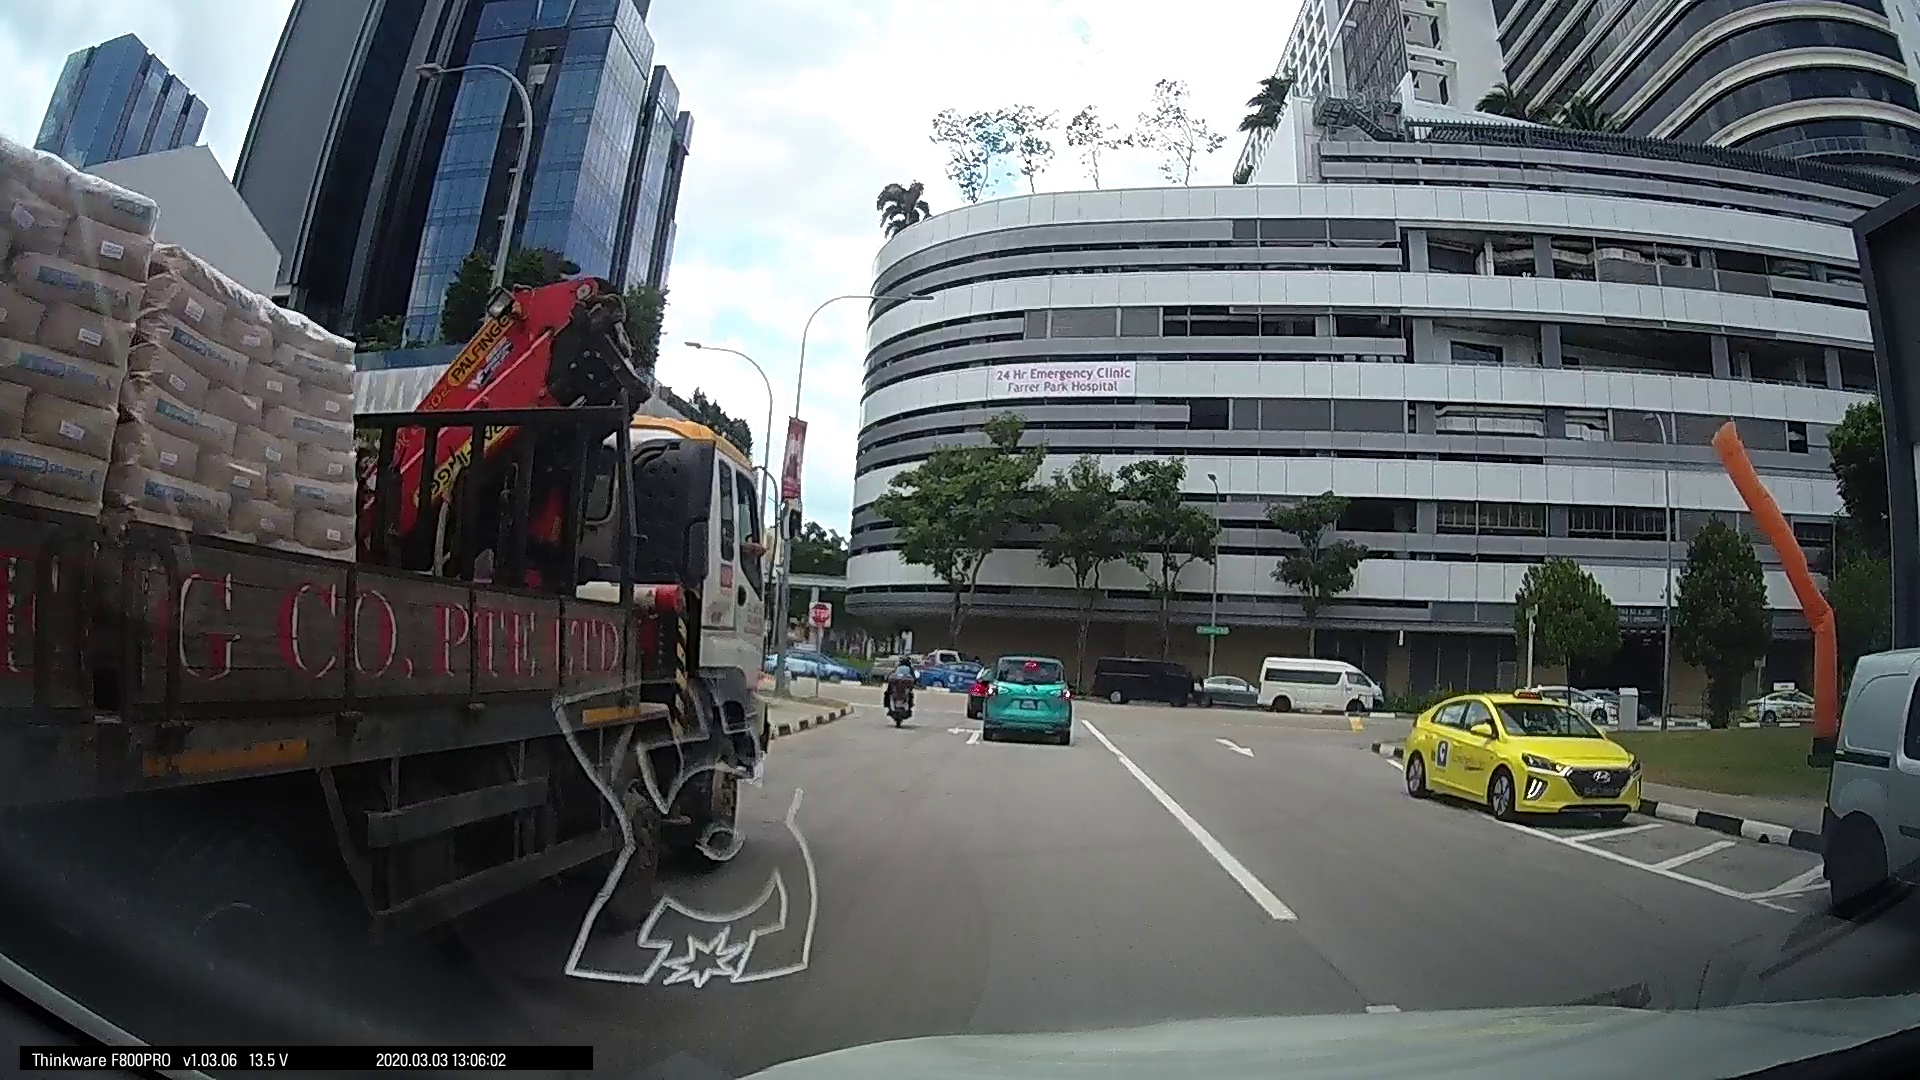Heavy Vehicle: (5, 232, 811, 992)
Light Vehicle: (1390, 683, 1648, 829), (1813, 642, 1919, 930), (1247, 650, 1378, 717), (973, 655, 1072, 742), (1095, 650, 1196, 702), (1193, 665, 1253, 705)
